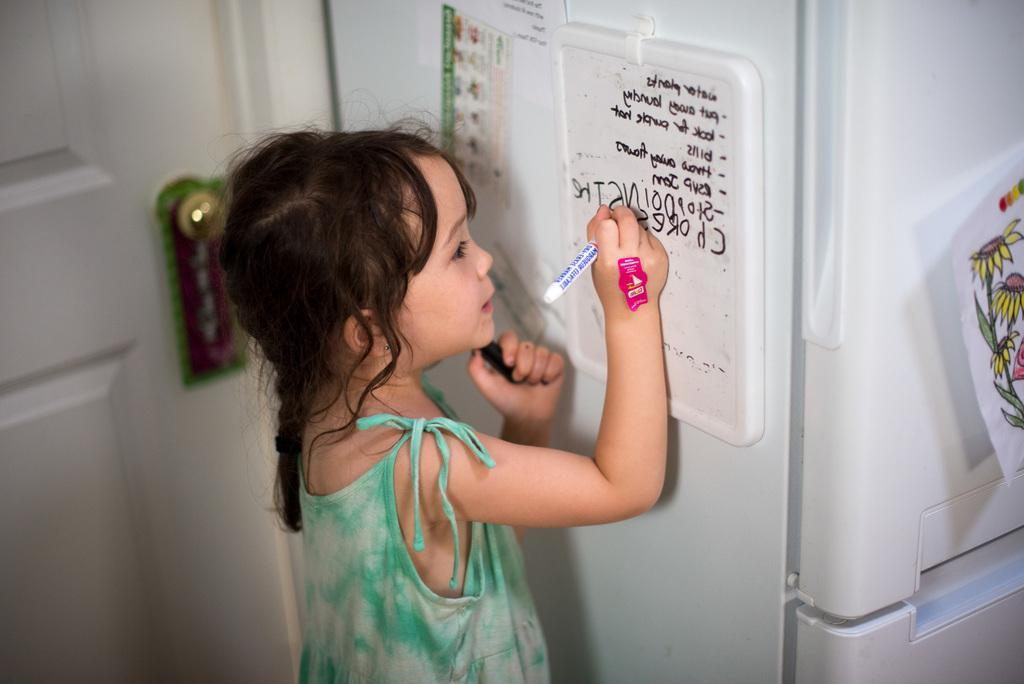door: (0, 24, 221, 679)
handle: (164, 180, 218, 254)
